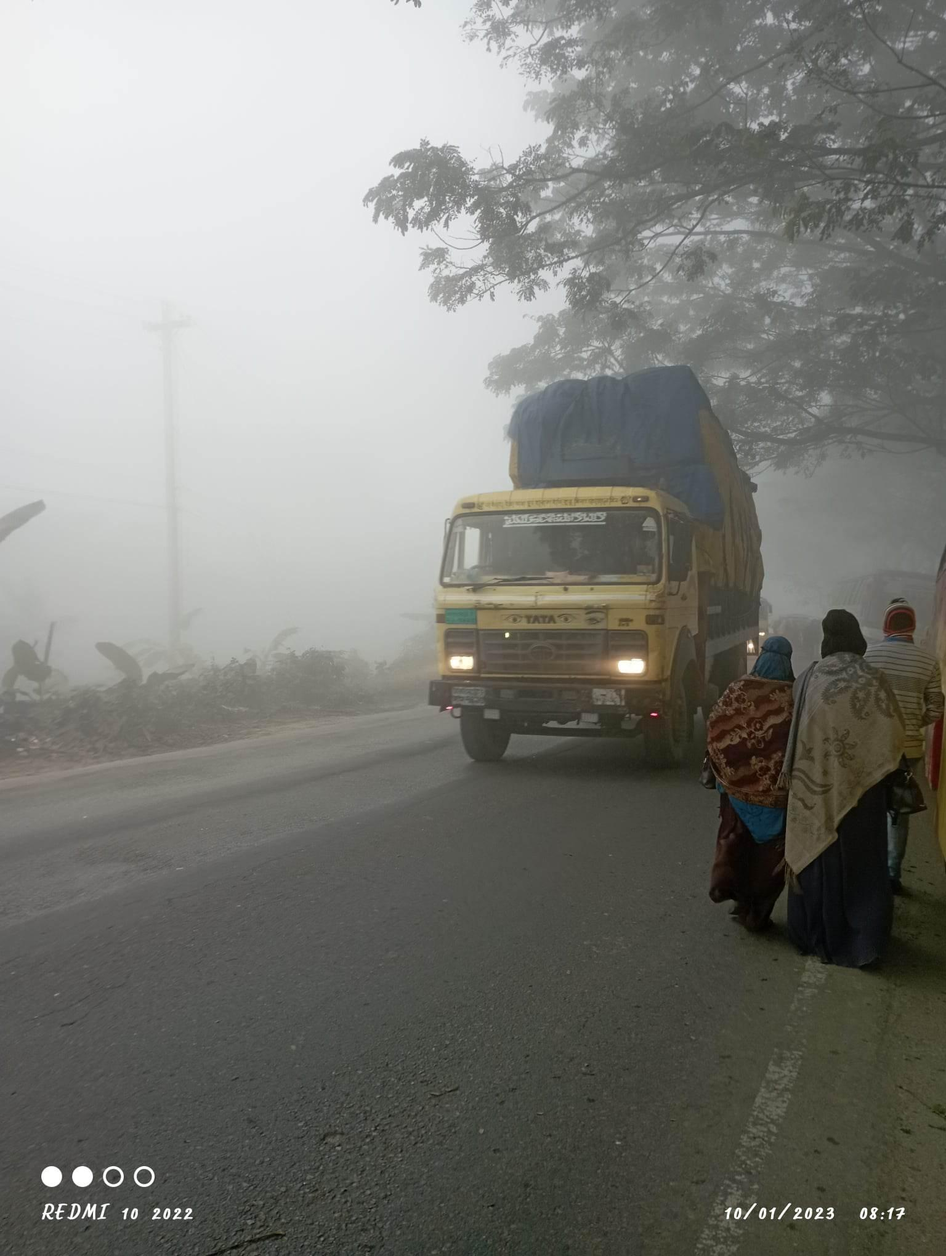Truck: (398, 366, 734, 805)
